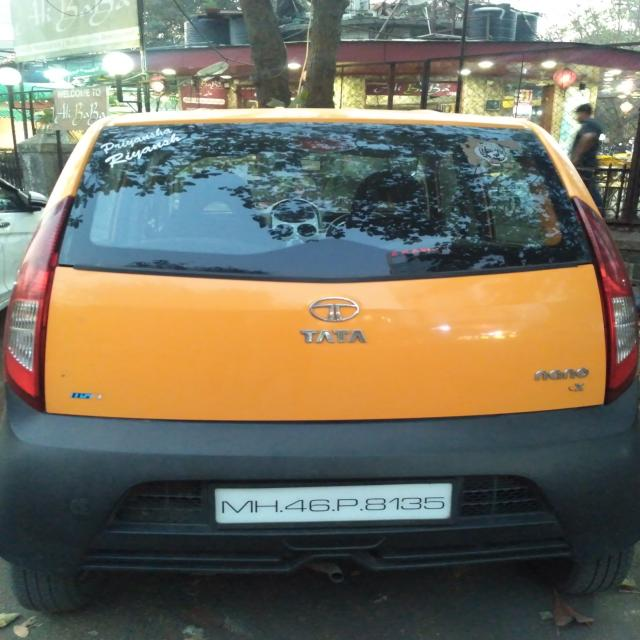Number-Plate: (215, 486, 455, 522)
